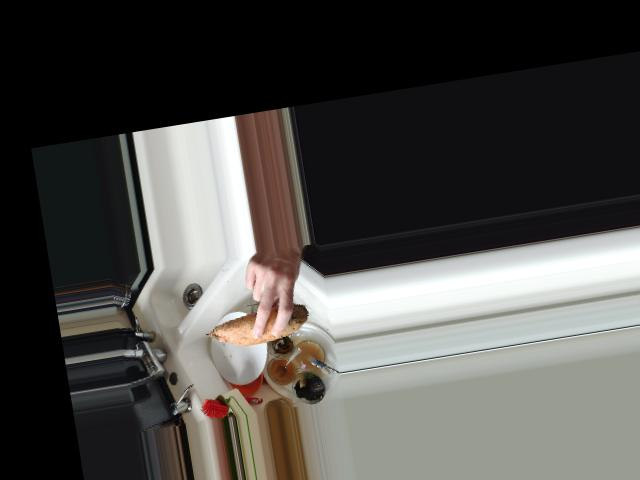sweet_potato: (198, 295, 315, 351)
